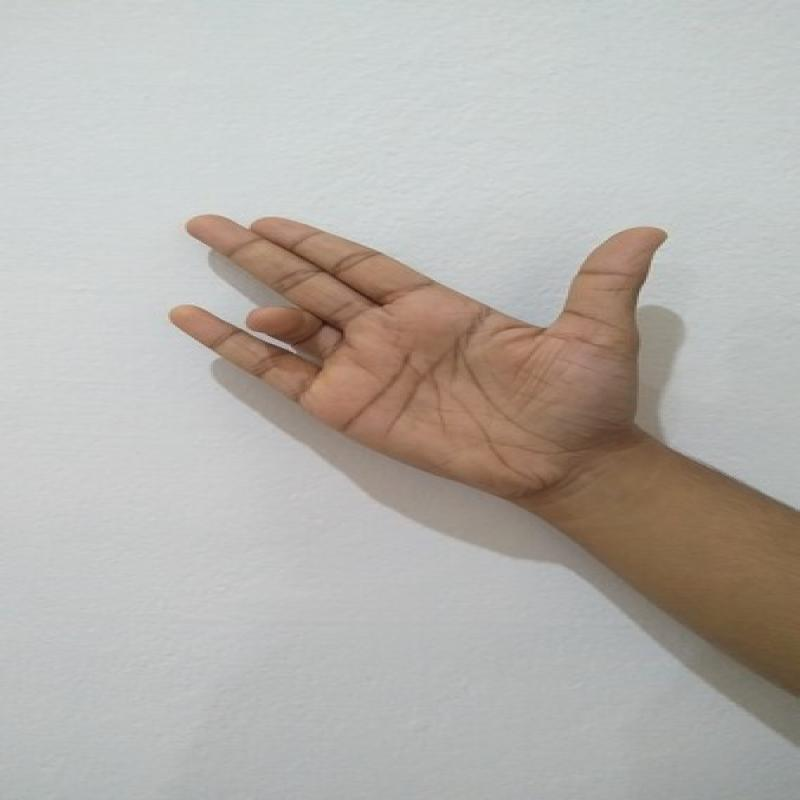Pathaaka: (155, 200, 683, 506)
